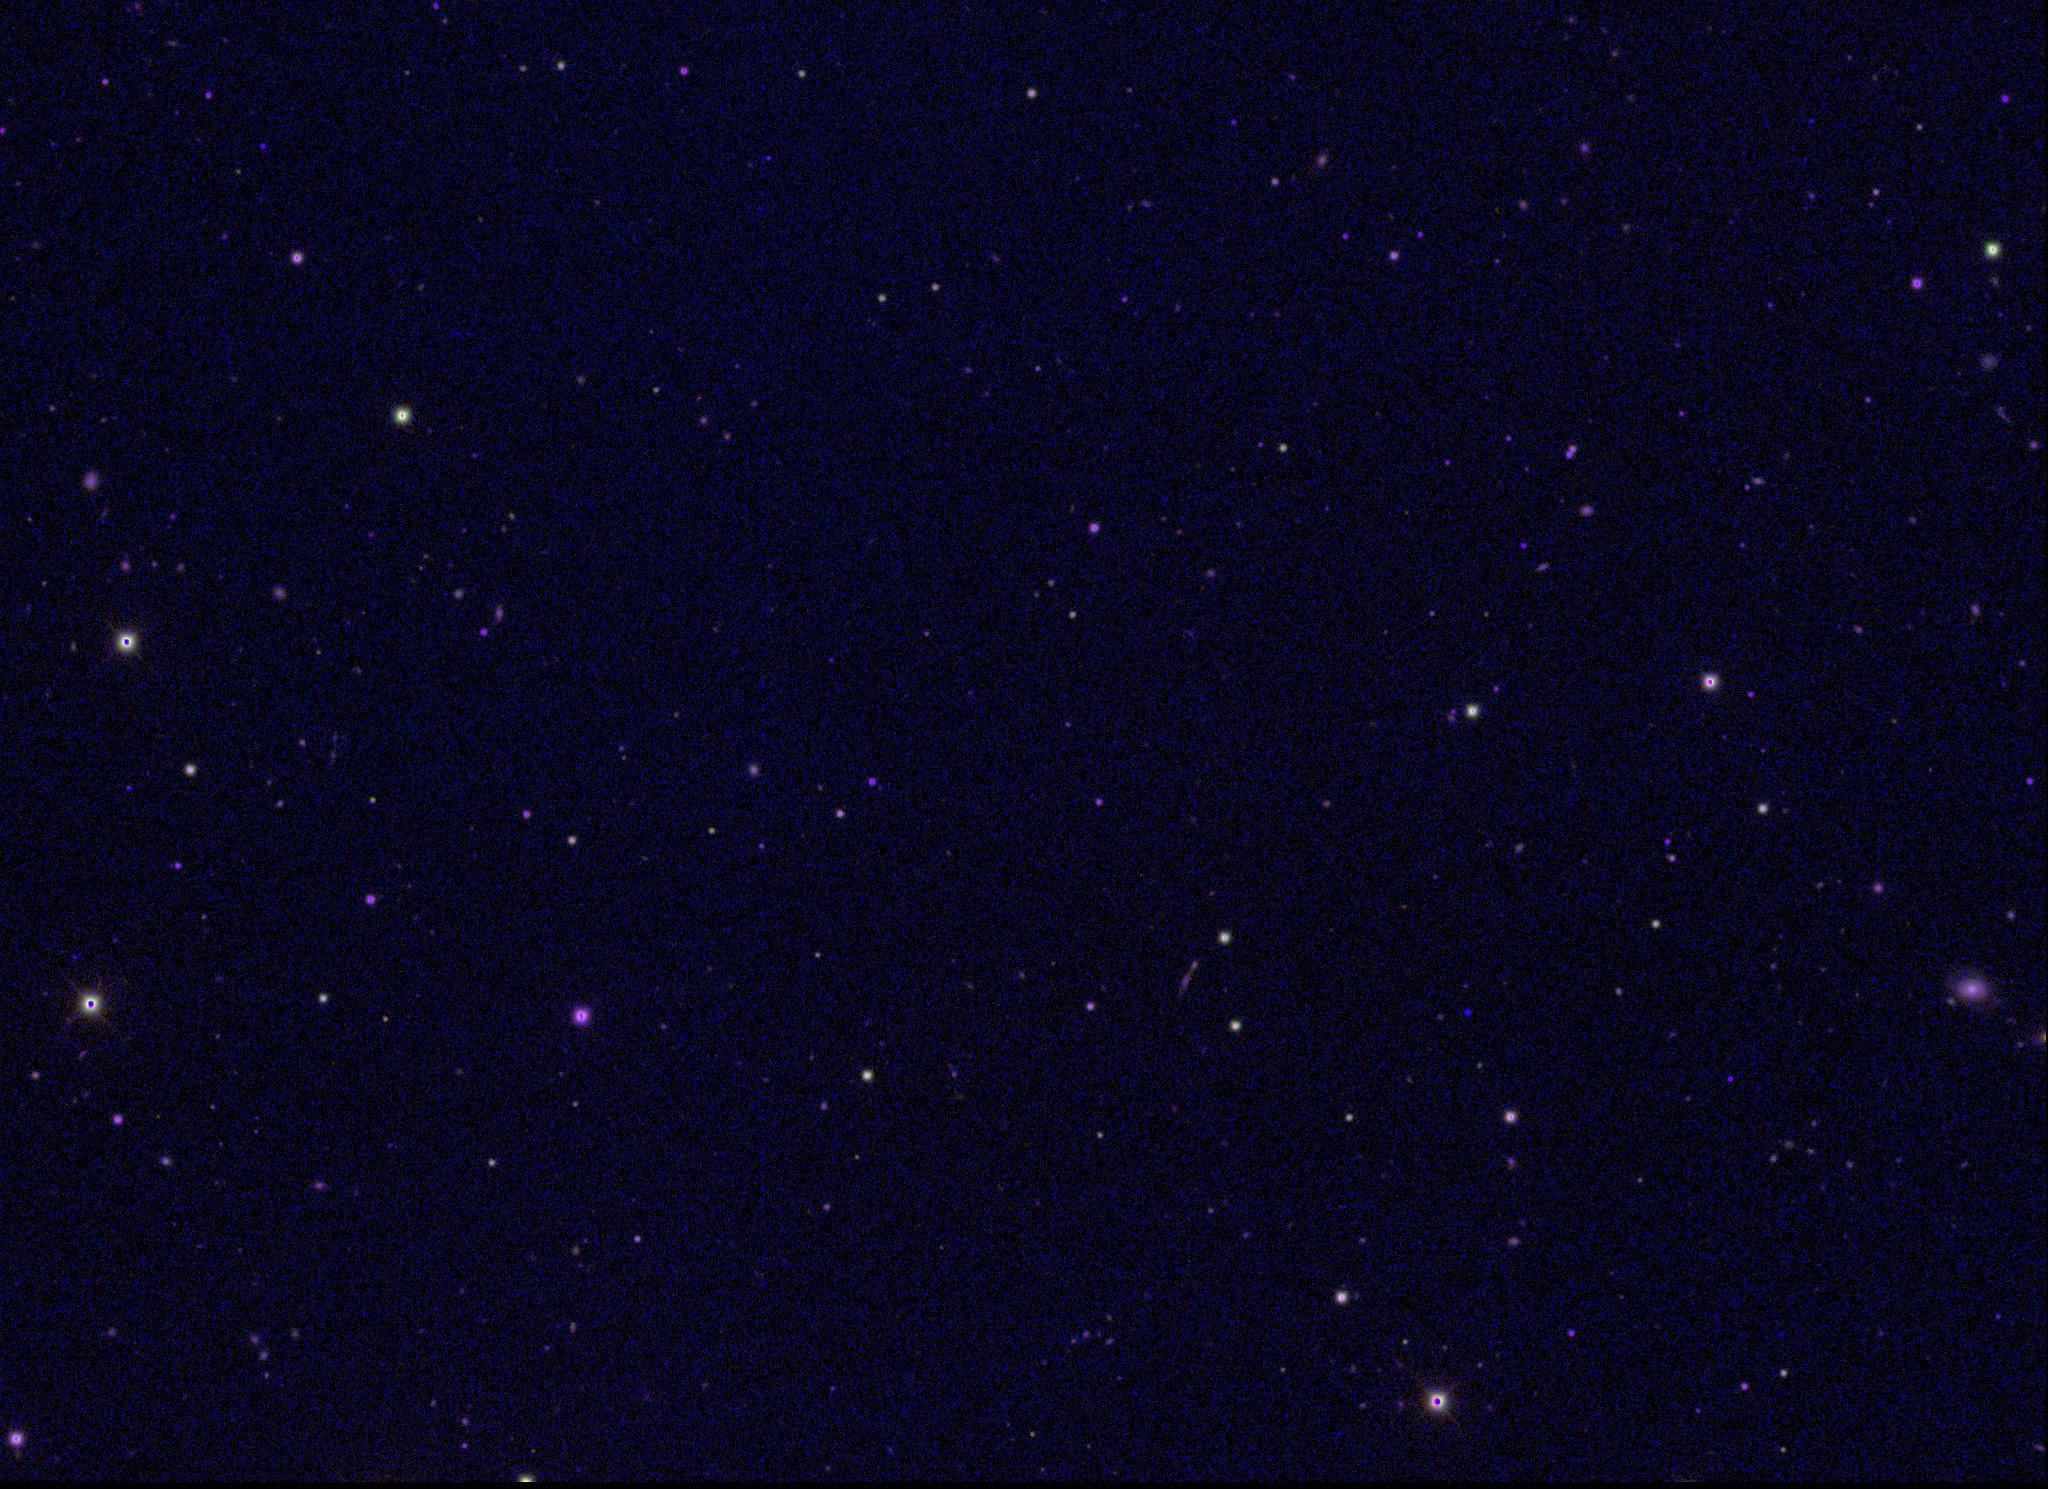L: (1461, 1005, 1476, 1020)
